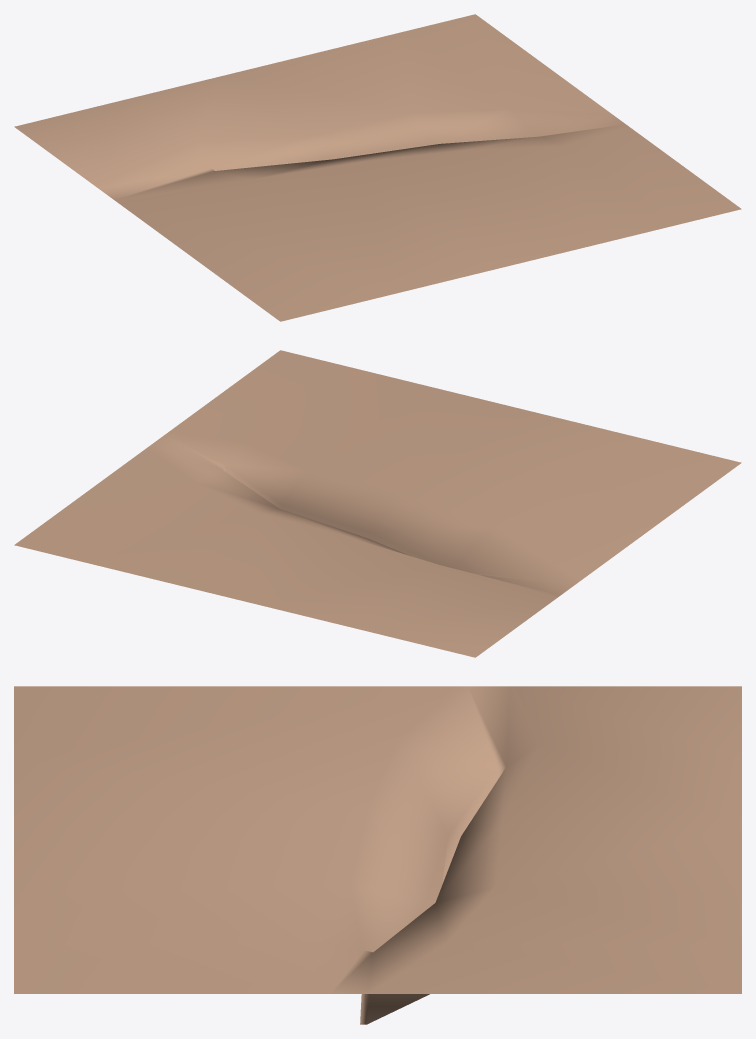
The model's file is Ground_Crack_1_LP.FBX.
3 renders of one model, top to bottom at view 1: azimuth 30°, elevation 25°; view 2: azimuth 150°, elevation 25°; view 3: azimuth 270°, elevation 25°, orthographic. The views are drawn at different scales.
Visible parts, largest first — view 1: Plane001; view 2: Plane001; view 3: Plane001.
Boxes of the visible parts, x1=… form: Plane001: x1=14, y1=14, x2=741, y2=321; Plane001: x1=14, y1=350, x2=741, y2=657; Plane001: x1=14, y1=686, x2=741, y2=1024.
Bounding box in the file's own units: 101 × 15.57 × 101.
